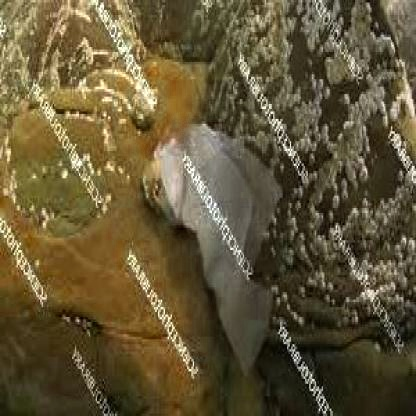pbag: (154, 121, 283, 384)
